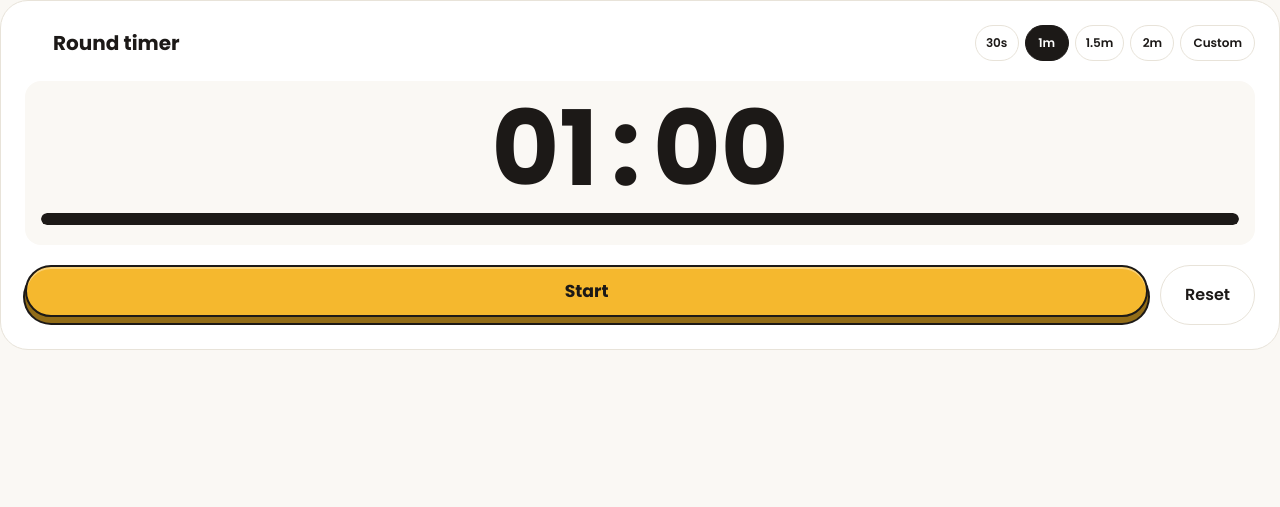
Timer › shows validation when a zero duration is submitted
Step 1. Click the button "Custom" → point(1218, 43), box [1180,25,1255,61]
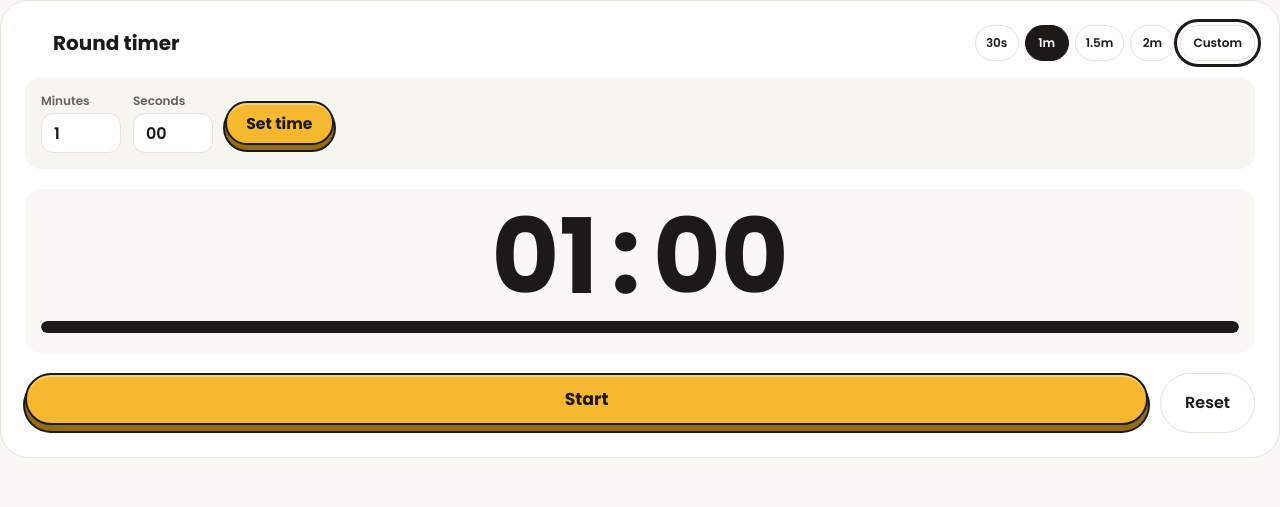
Step 2. Clear the number field labelled "Minutes" → point(81, 133), box [41,113,121,153]
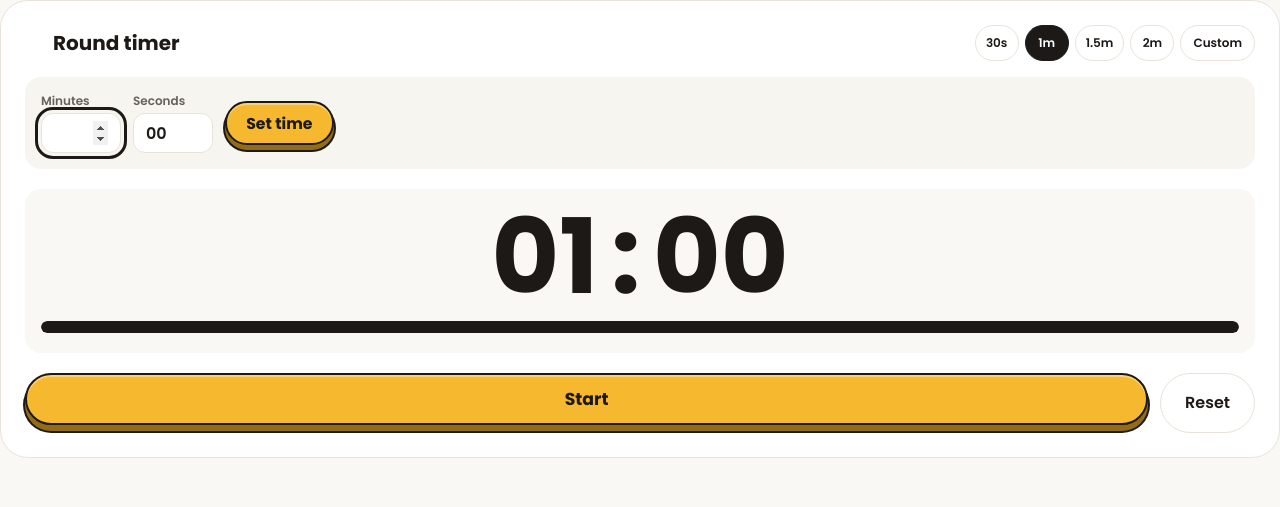
Step 3. Clear the number field labelled "Seconds" → point(173, 133), box [133,113,213,153]
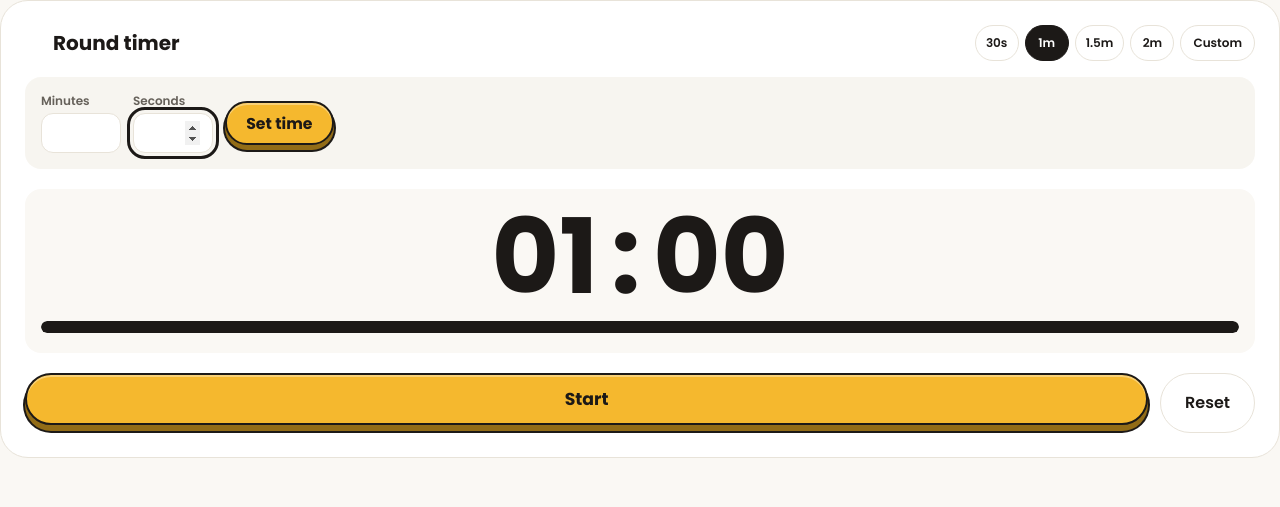
Step 4. Click the button "Set time" → point(279, 123), box [225,101,334,145]
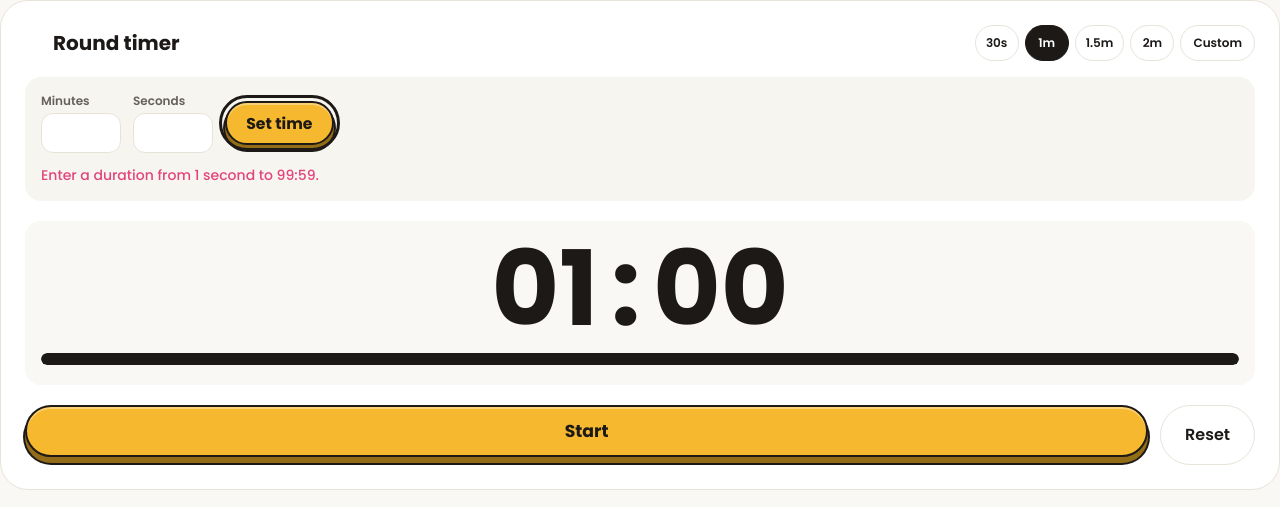
Result: the message reads "Enter a duration from 1 second to 99:59." at [41,165,319,185]
